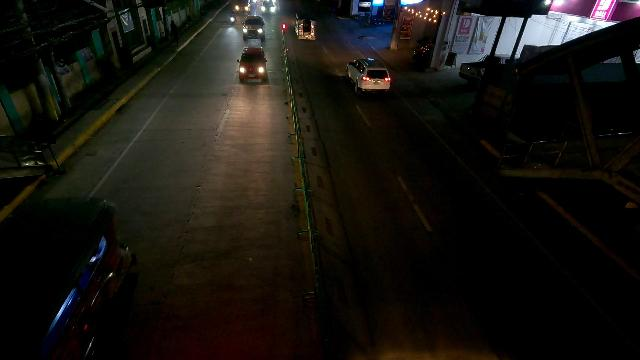car: (344, 56, 392, 92), (236, 46, 269, 84), (241, 15, 267, 42), (232, 1, 250, 14), (261, 0, 277, 14)
jeepney: (295, 11, 318, 42)
